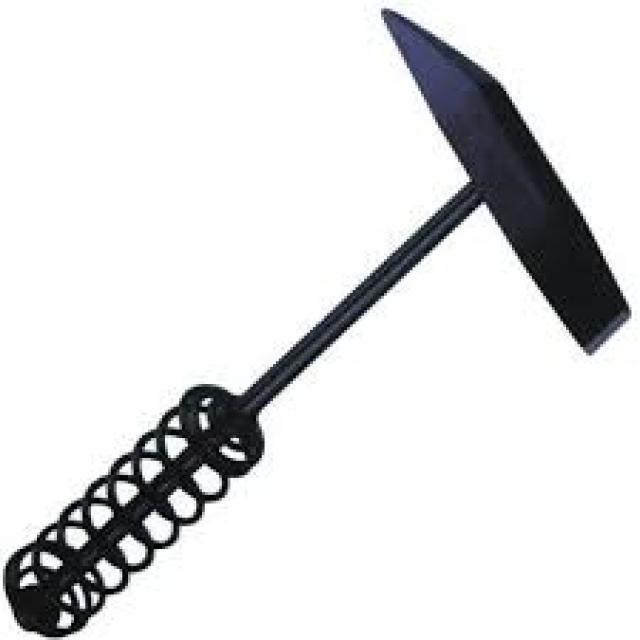Palu: (5, 11, 622, 637)
